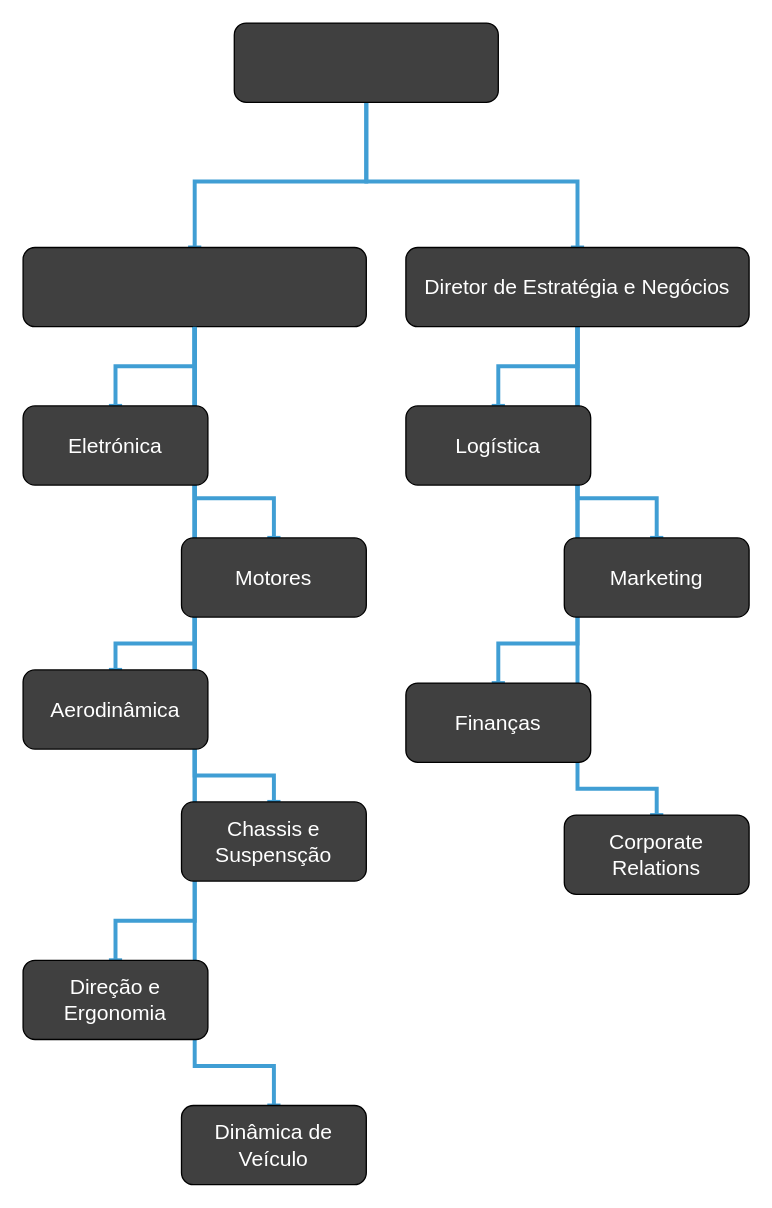
This 772x1208 diagram has some shape labels left out. Here are the shapes that lost their labels. From the top down, the centre of each, then its label:
At [365,62]: "Team Leader".
At [194,286]: "Diretor Técnico".
